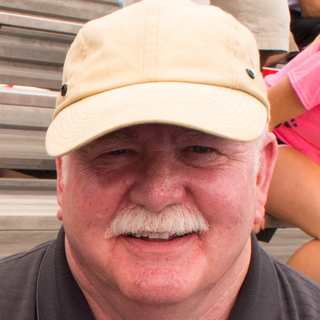eye: (176, 140, 226, 163)
